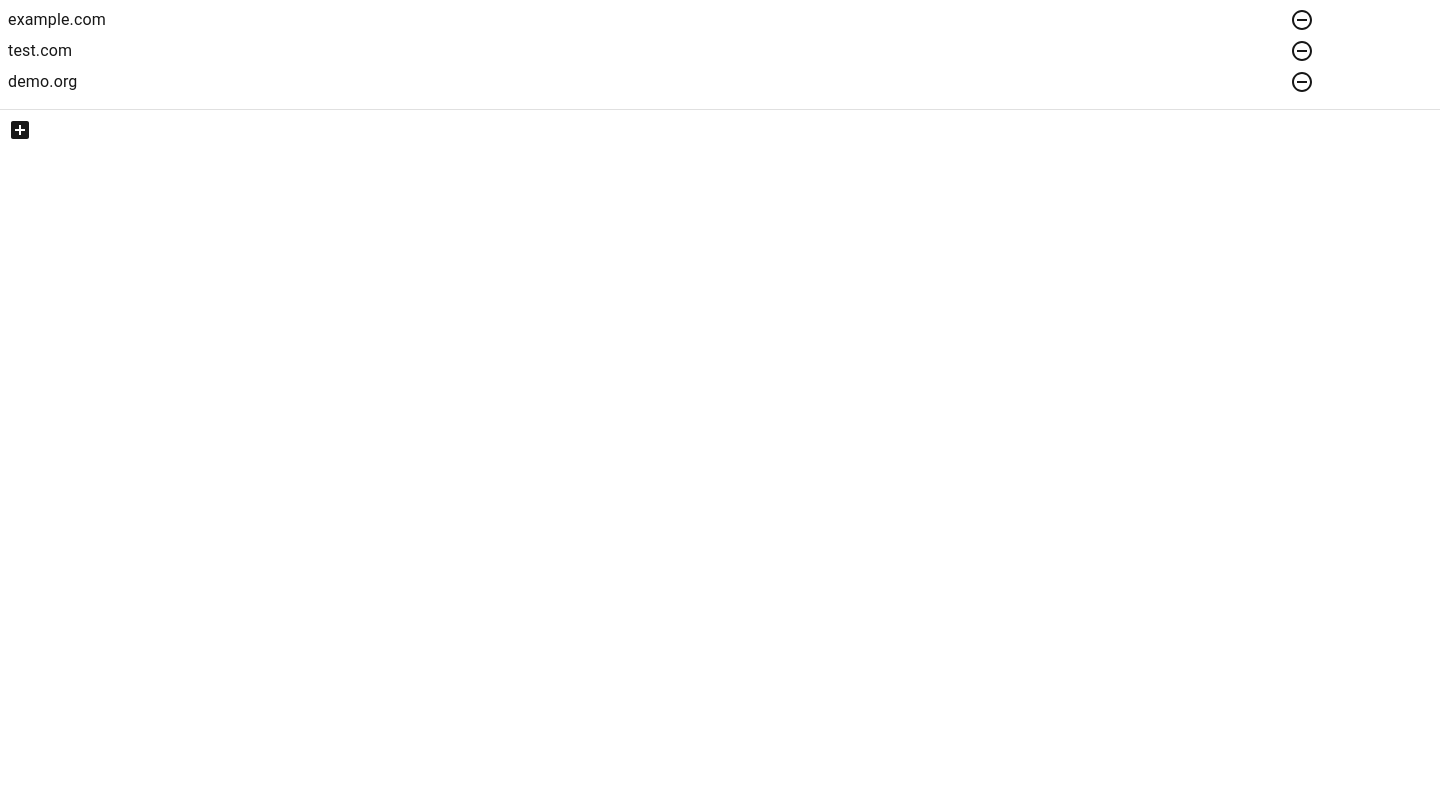
Test: TenantManagementDomainConfiguration Component › Add Domain Dialog › should close add dialog when Cancel button is clicked
Expected: the text "example.com" is shown, [8,10,106,29]
Click the icon with test id "AddBoxIcon" at {"x": 20, "y": 130}, box [8,118,32,142]
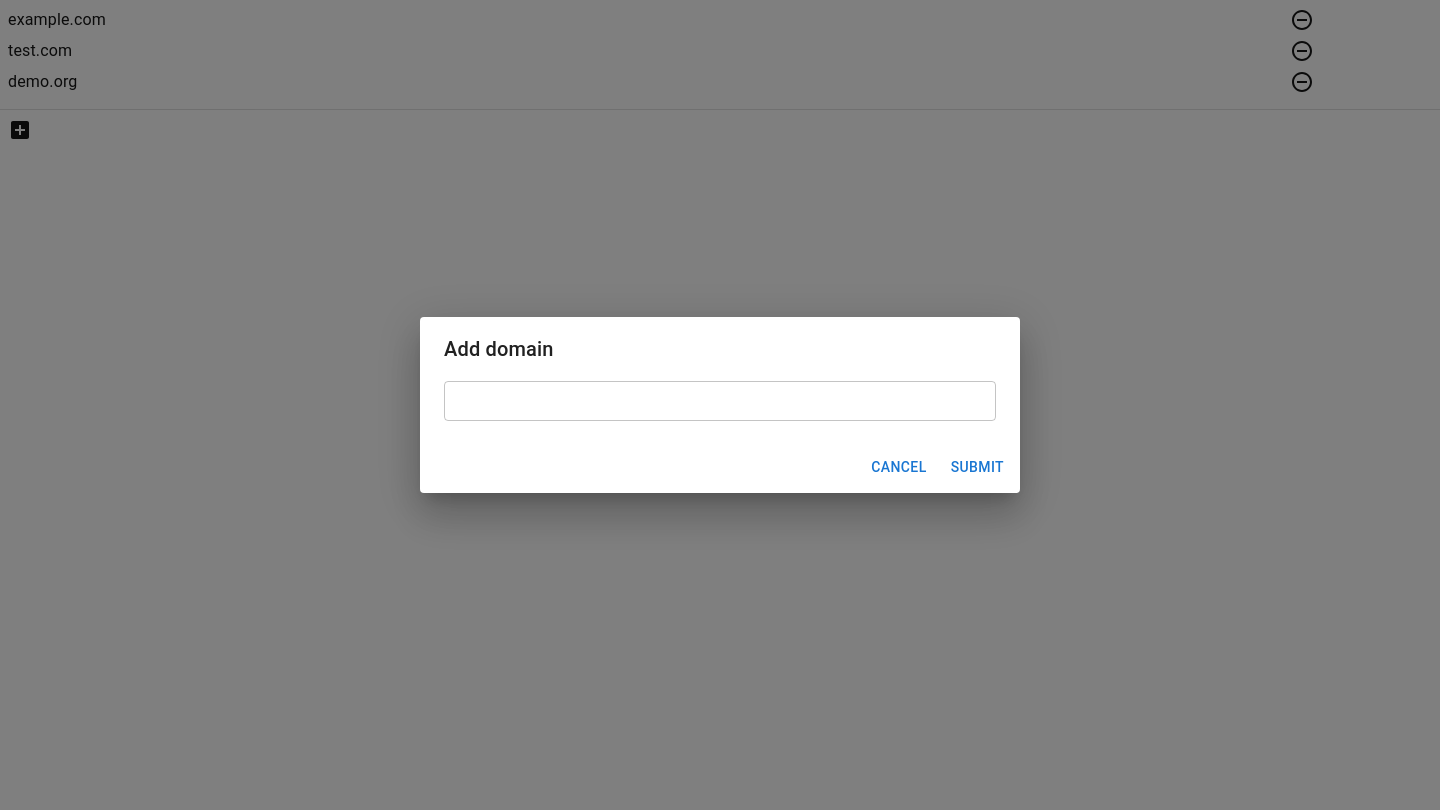
Now the heading "Add domain" is shown, box [444,337,554,361]
Click the button "Cancel" at {"x": 899, "y": 467}, box [863,449,935,485]
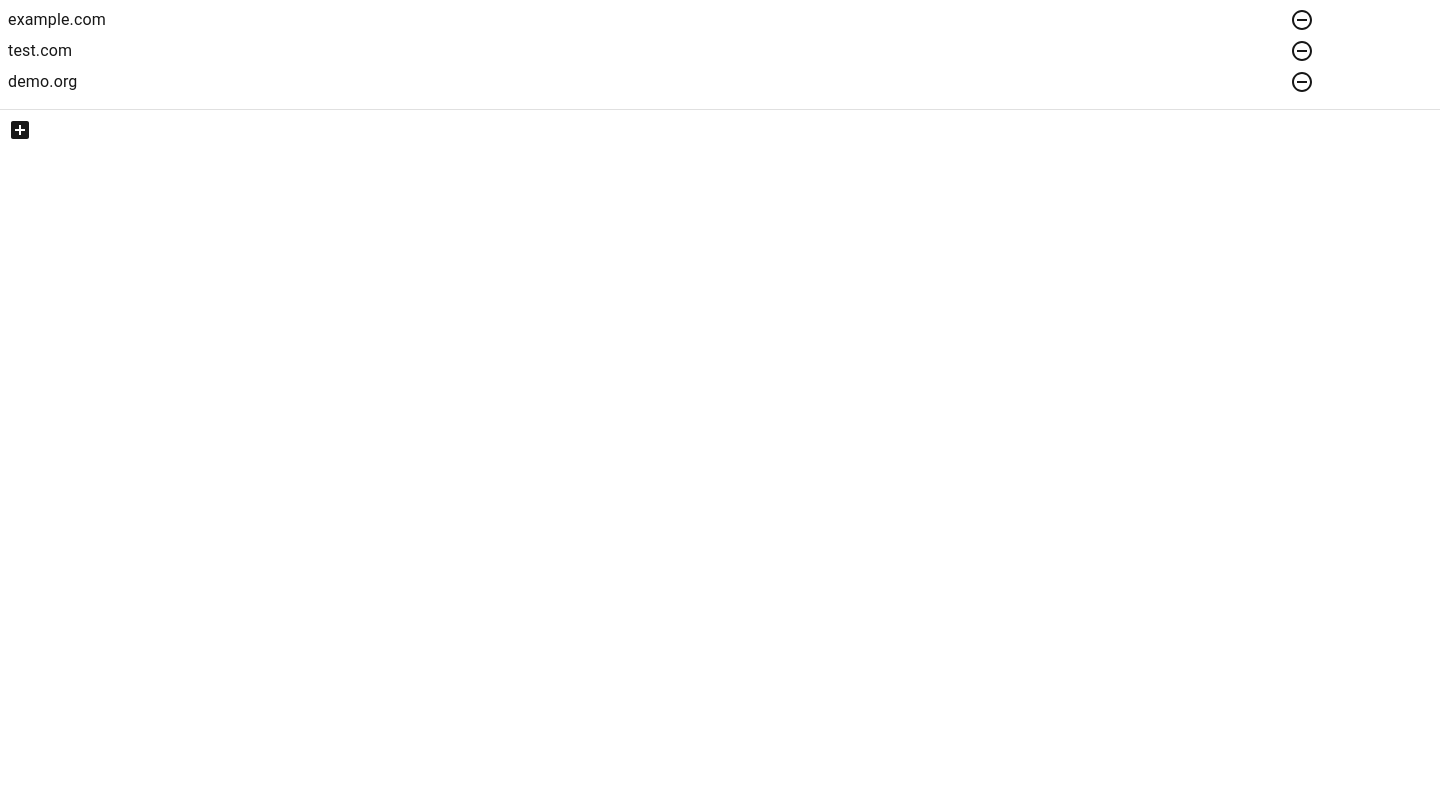
Now the heading "Add domain" is gone
